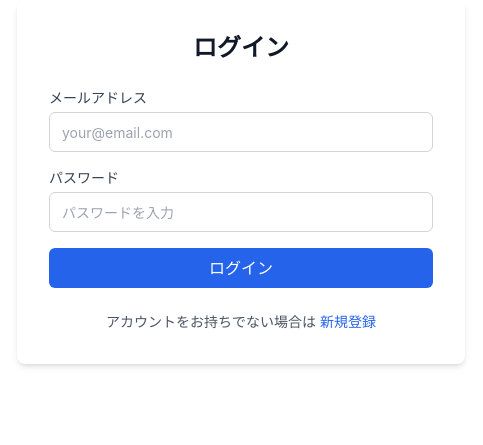
it: LoginForm › should display error message on failed submission
Type "test@example.com" into the field labelled "メールアドレス". click: [241, 132]
box: [49, 112, 433, 152]
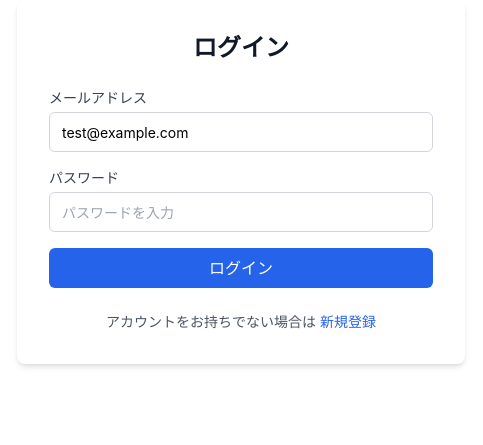
Type "wrongpassword" into the password field labelled "パスワード". click: [241, 212]
box: [49, 192, 433, 232]
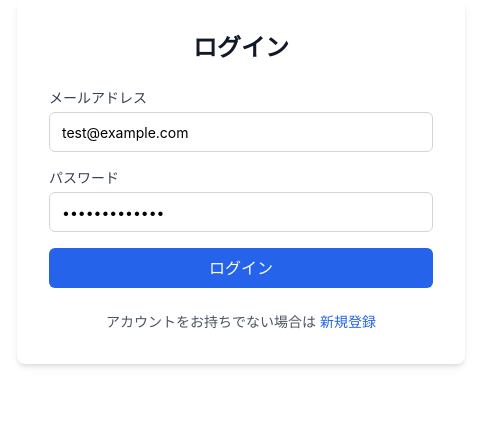
Click the button "ログイン". click: [241, 268]
box: [49, 248, 433, 288]
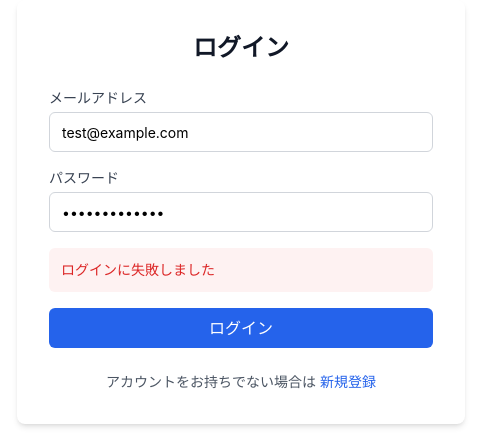
Result: the text "ログインに失敗しました" is shown at [61, 261, 215, 278]
